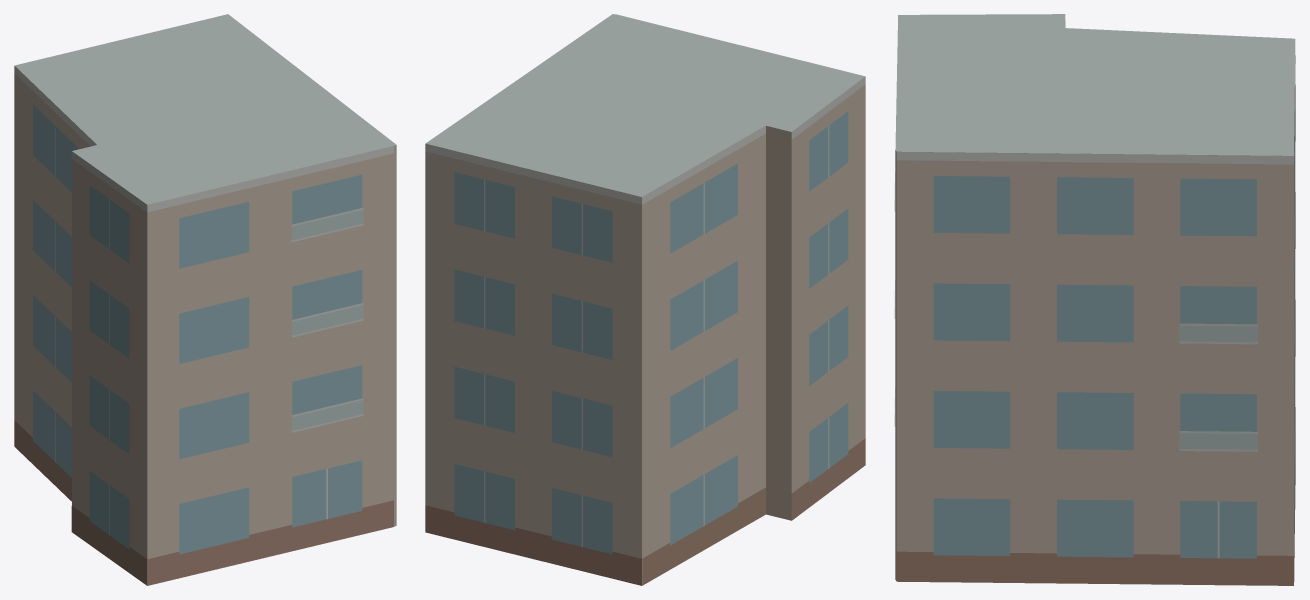
Rendered from survey-upis-32773428.glb.
The picture shows the model from 3 angles, left to right: view 1: azimuth 30°, elevation 25°; view 2: azimuth 150°, elevation 25°; view 3: azimuth 270°, elevation 25°; orthographic projection. The views are drawn at different scales.
Visible parts, largest first — view 1: survey-upis-32773428.tmp; view 2: survey-upis-32773428.tmp; view 3: survey-upis-32773428.tmp.
Boxes of the visible parts, bbox=[...] form: survey-upis-32773428.tmp: bbox=[14, 14, 396, 585]; survey-upis-32773428.tmp: bbox=[425, 14, 865, 585]; survey-upis-32773428.tmp: bbox=[894, 14, 1295, 585].
Size of the model in its own units: 8.69 by 12.25 by 10.37.
